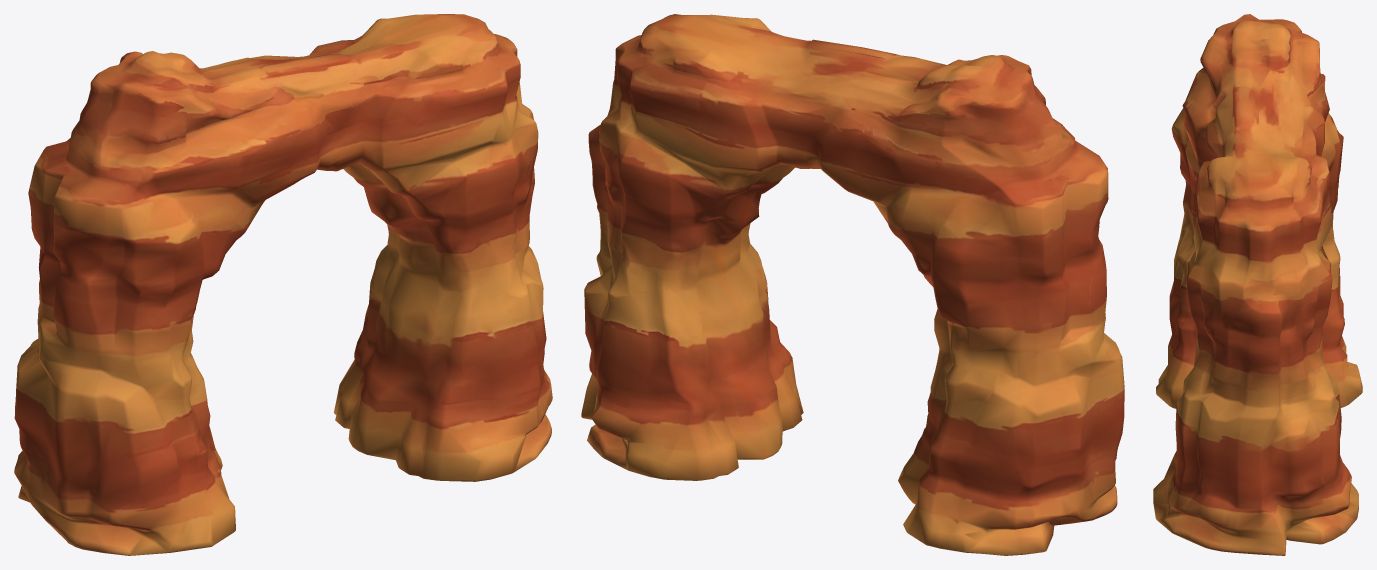
File: SM_Tripo_DesertRockArch.glb
3 renders of one model, left to right at view 1: azimuth 30°, elevation 25°; view 2: azimuth 150°, elevation 25°; view 3: azimuth 270°, elevation 25°, orthographic. The views are drawn at different scales.
Parts seen in each view (by area): view 1: SM_Tripo_DesertRockArch_LOD0; view 2: SM_Tripo_DesertRockArch_LOD0; view 3: SM_Tripo_DesertRockArch_LOD0.
Boxes of the visible parts, x1,y1,x2,y2 form: SM_Tripo_DesertRockArch_LOD0: (14, 14, 552, 555); SM_Tripo_DesertRockArch_LOD0: (581, 14, 1124, 555); SM_Tripo_DesertRockArch_LOD0: (1153, 14, 1362, 555).
Size of what is drawn, in the model's own units: 15.68 by 13 by 6.61.
Materials: 1 (1 with a texture image).
